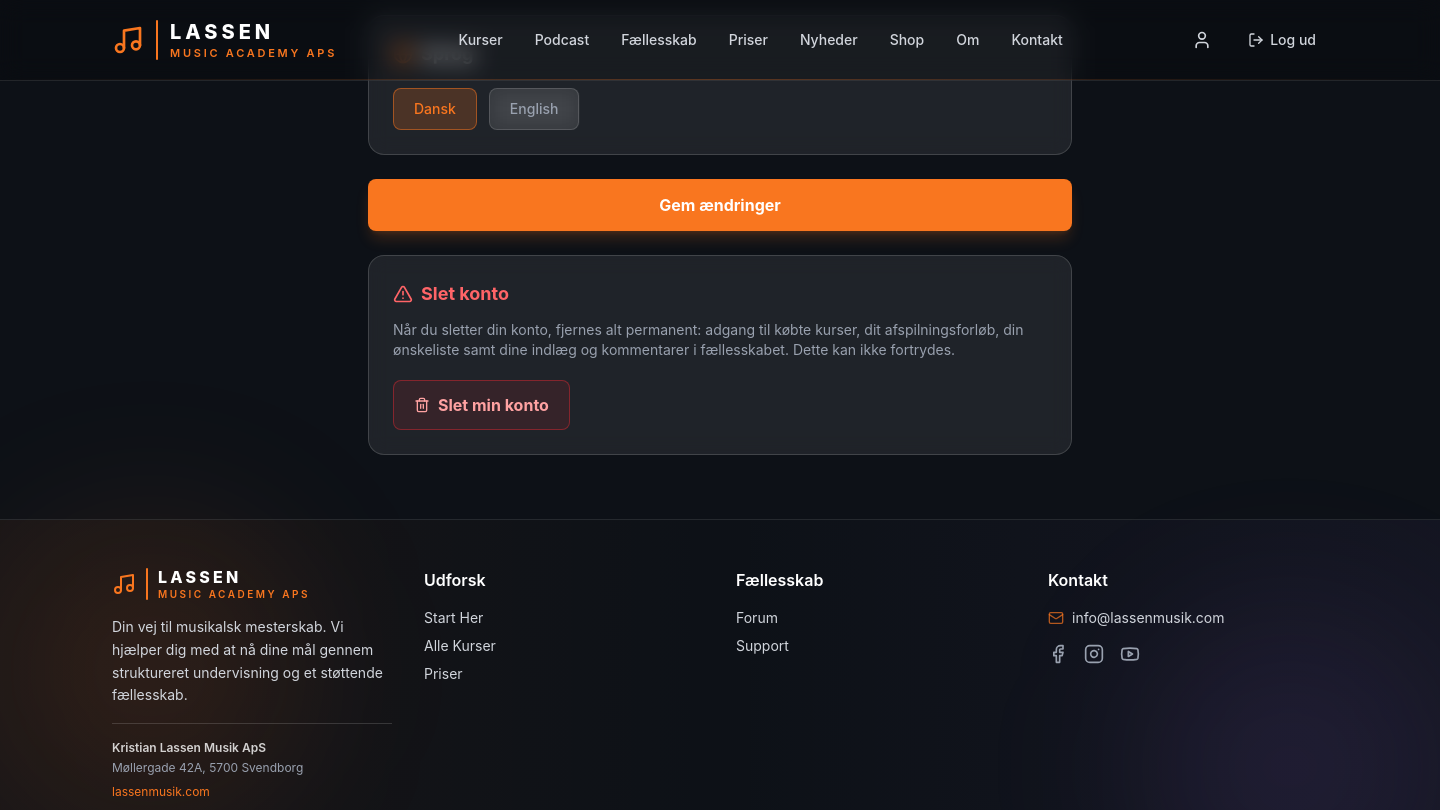
Test: MyProfile Page › Delete account › does not delete when the modal is cancelled
(page scrolled)
Click the button "Slet min konto" at (481, 405), box [393,380,570,430]
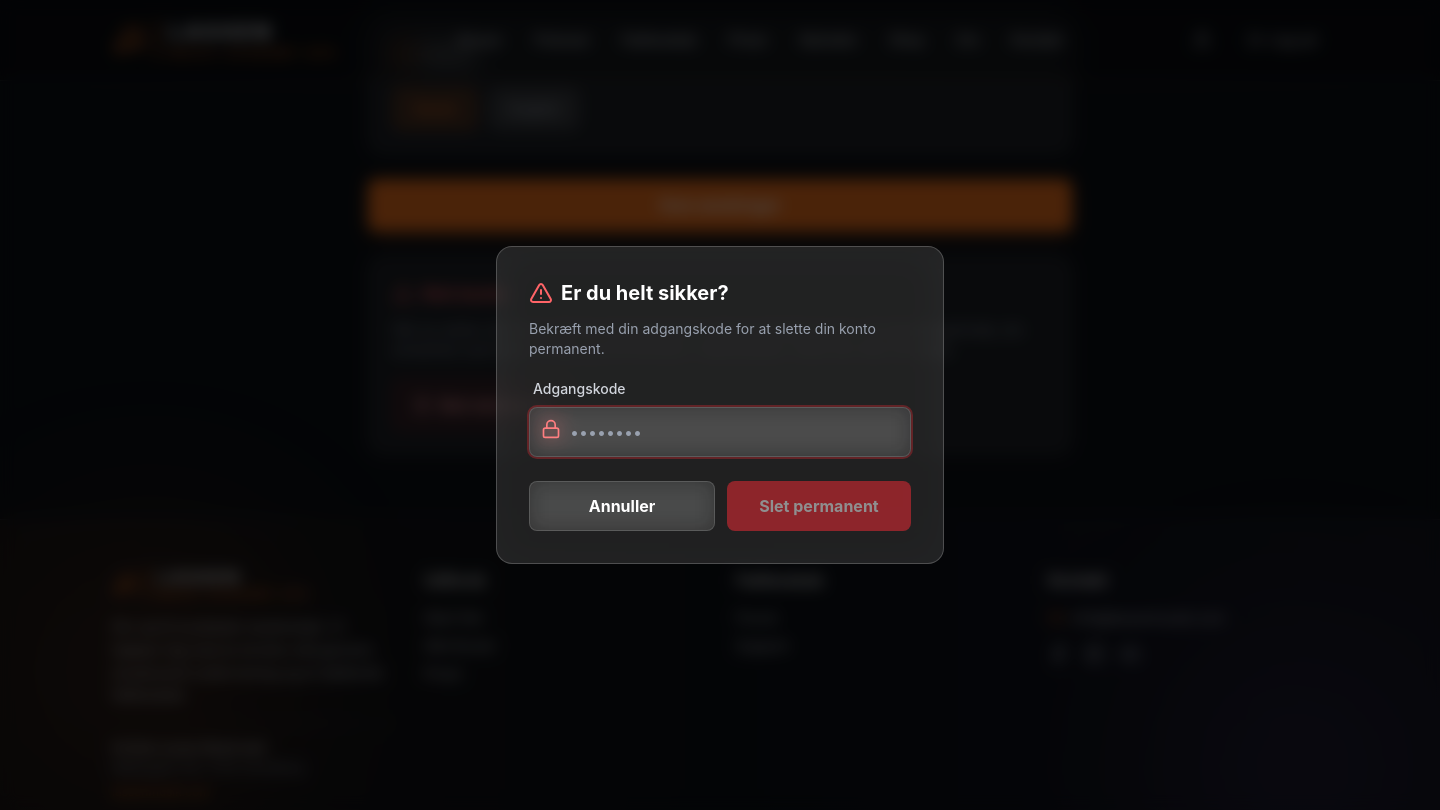
Click the button "Annuller" at (622, 506), box [529,481,715,531]
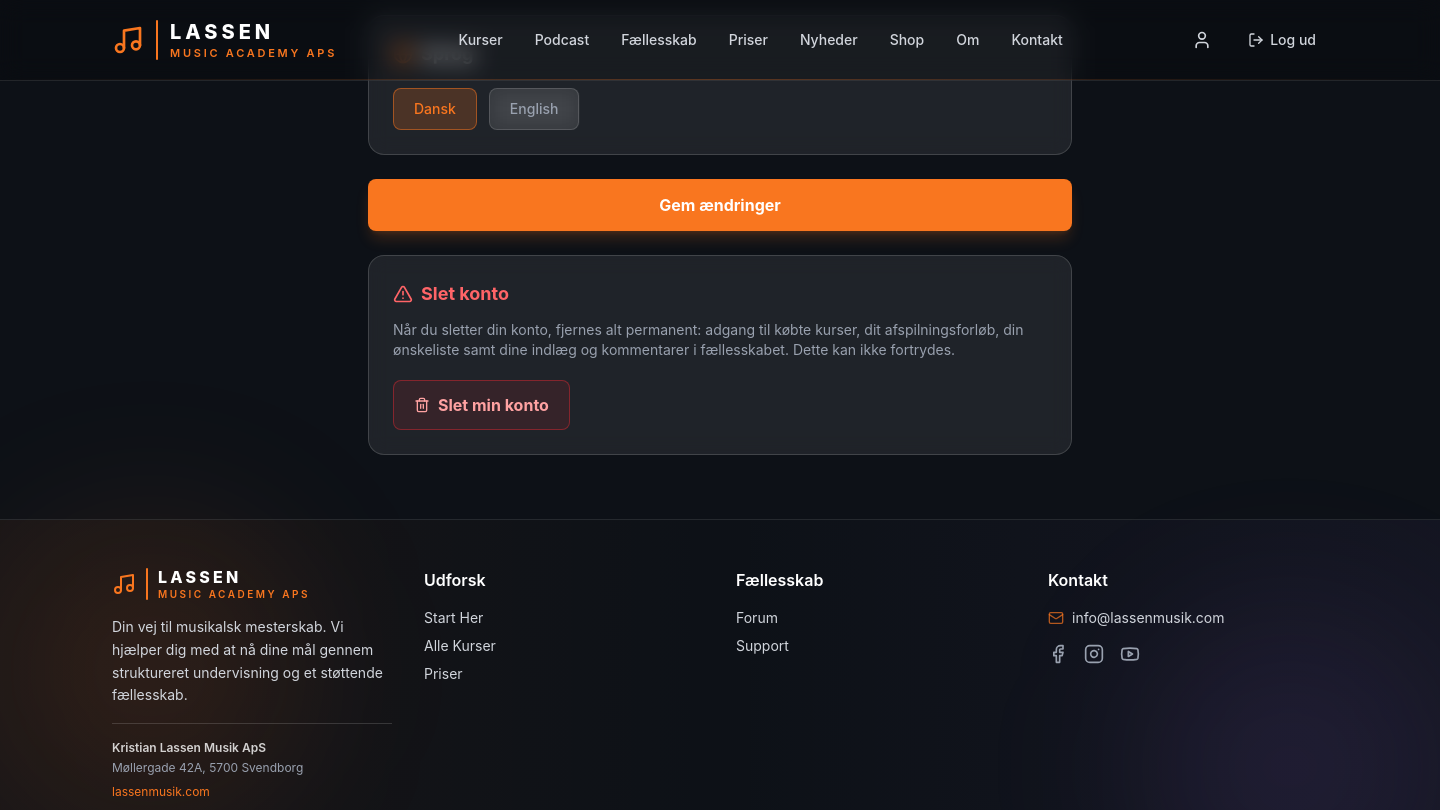
Expected: the heading "Er du helt sikker?" is gone
